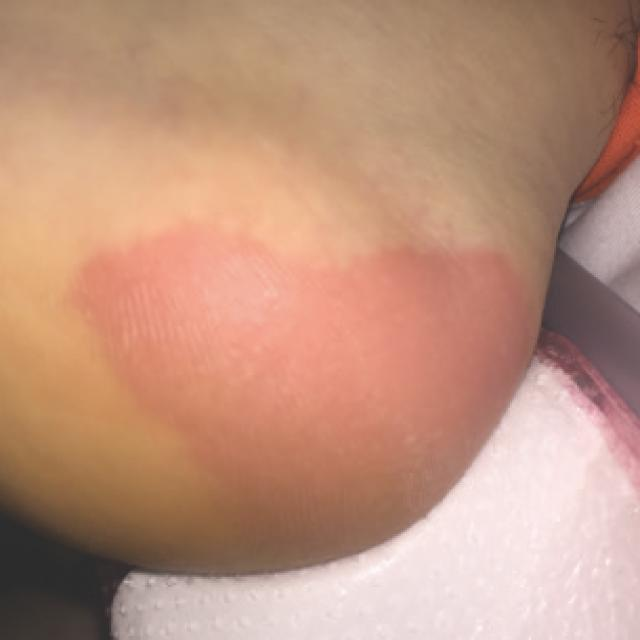stage-1: (74, 227, 535, 555)
